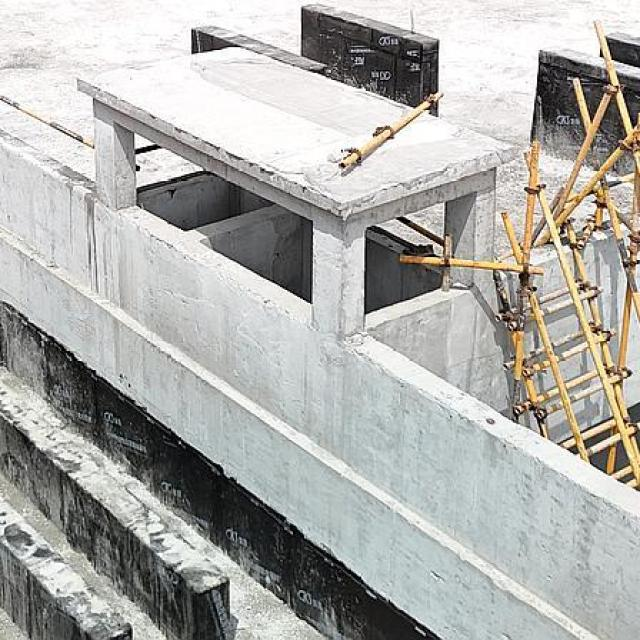edge_guardrail: (0, 94, 96, 149)
